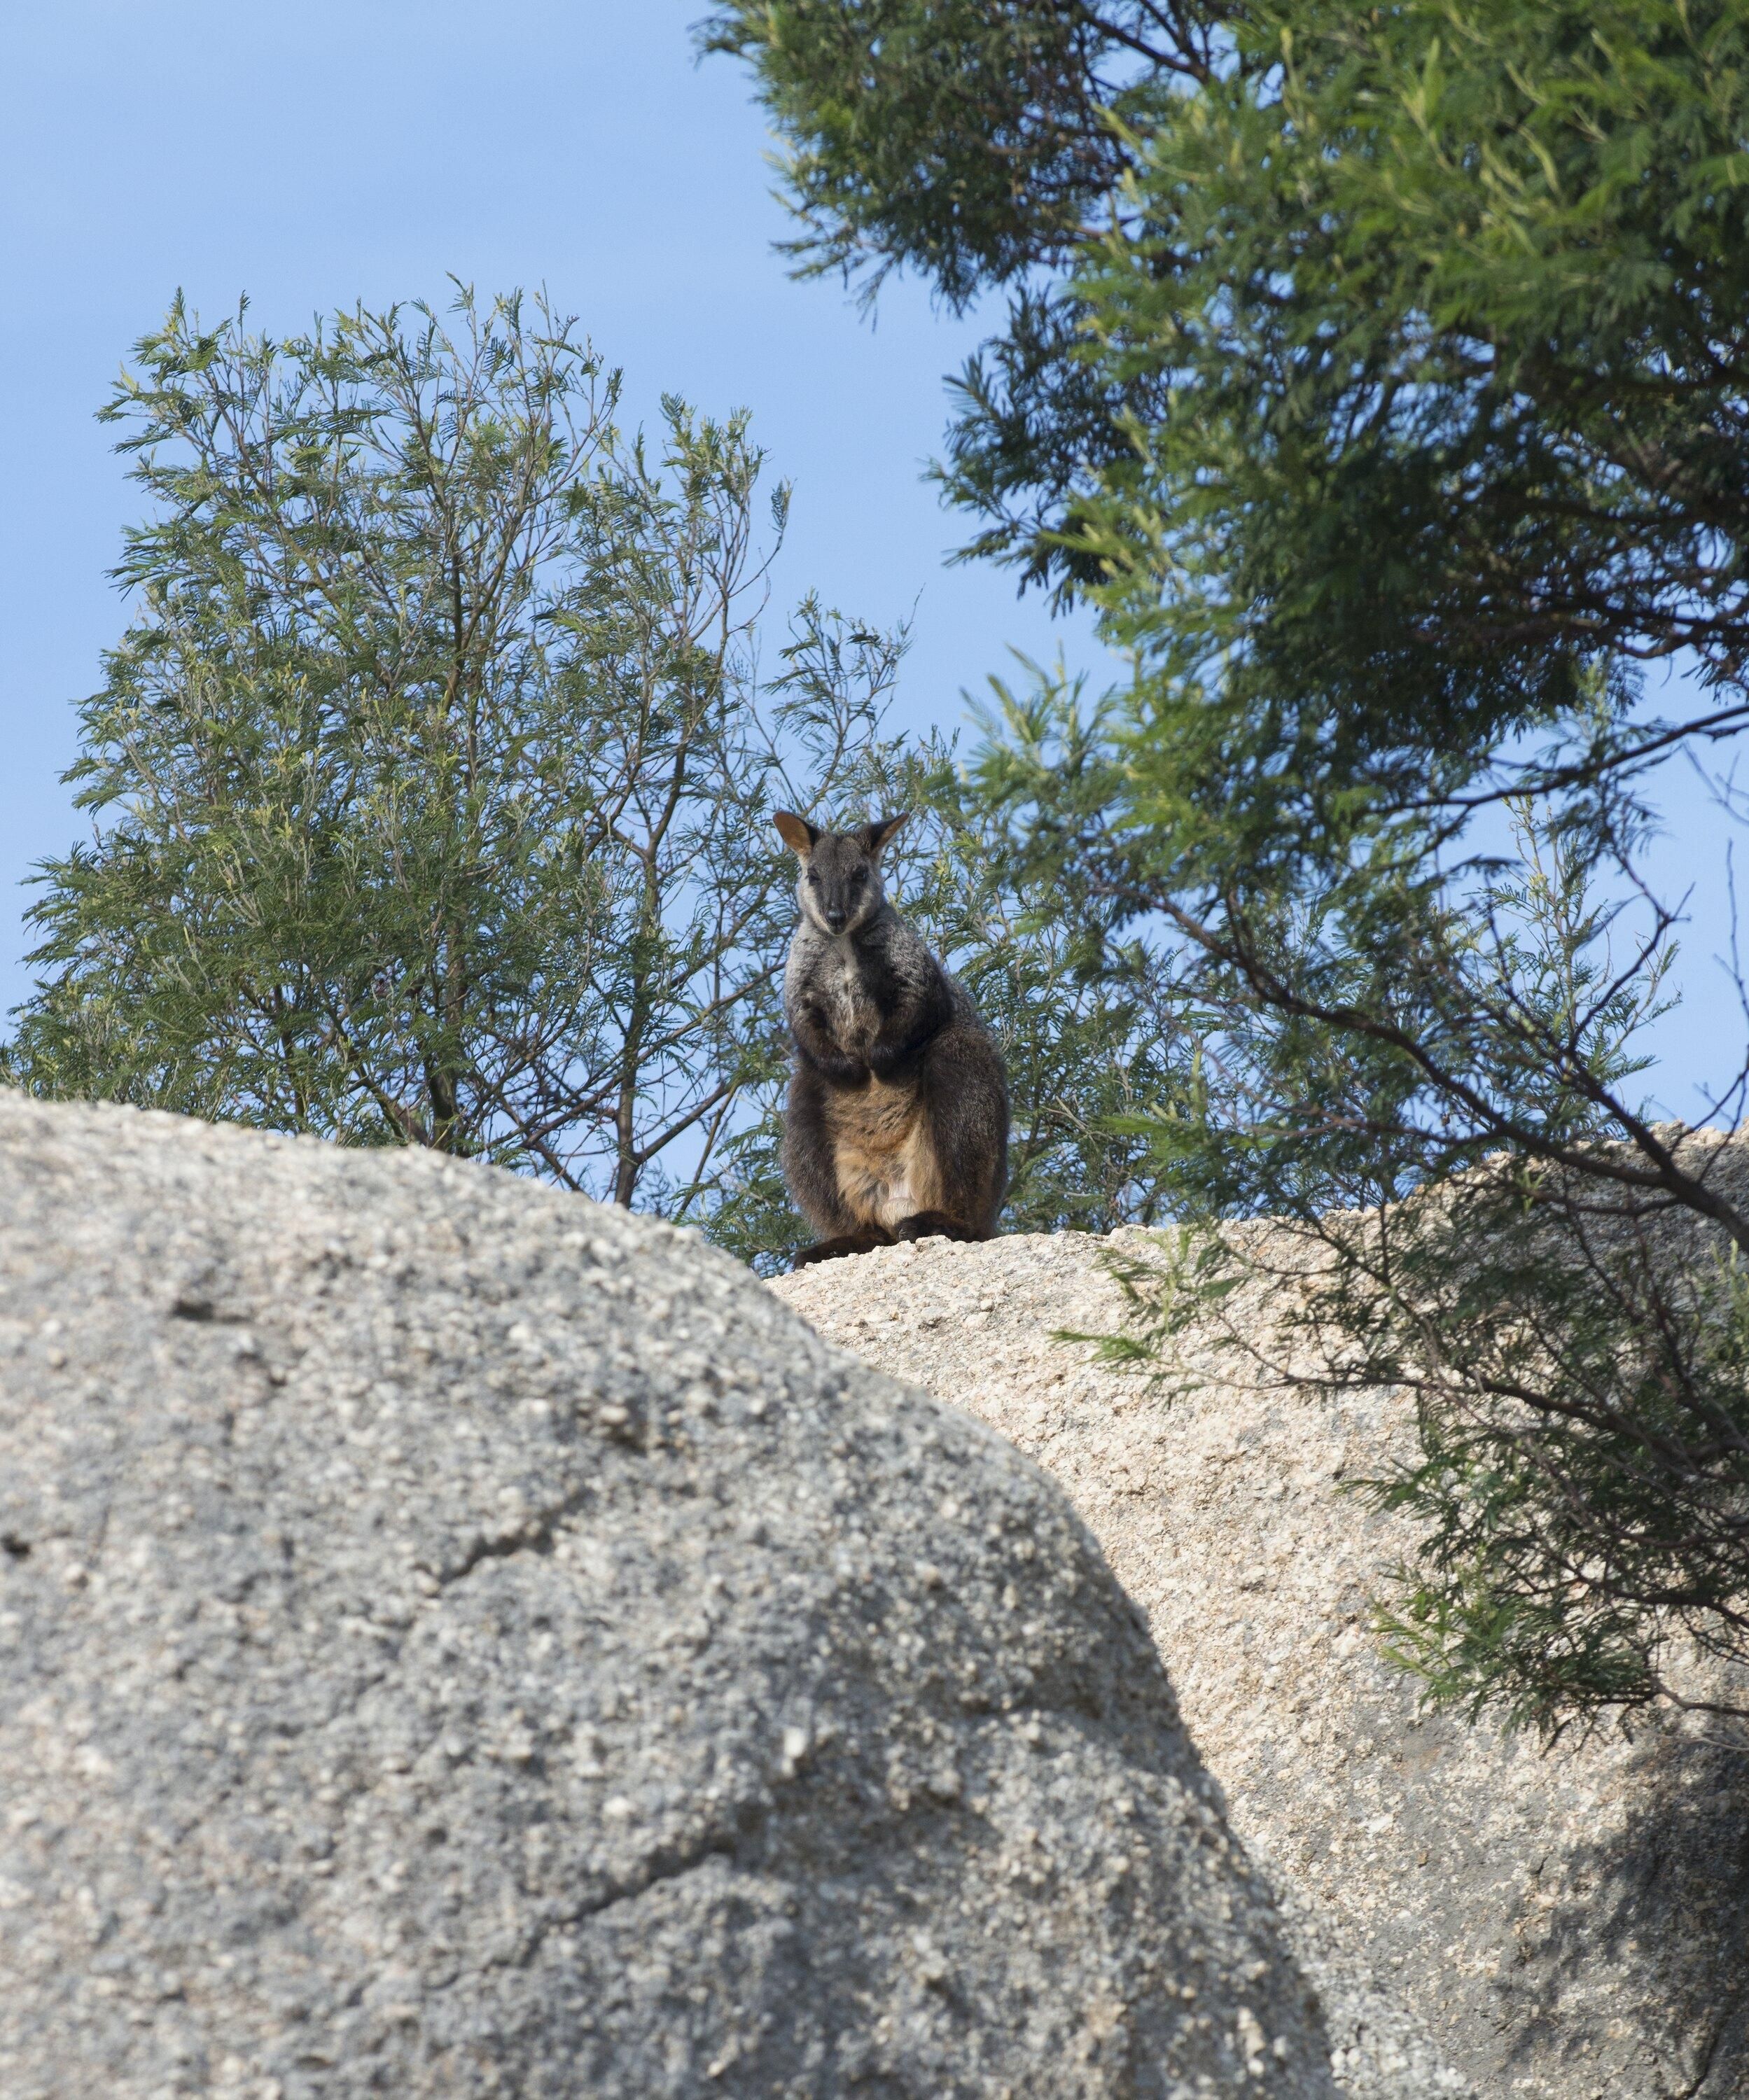Brush-tailed rock-wallaby: (764, 806, 1015, 1270)
